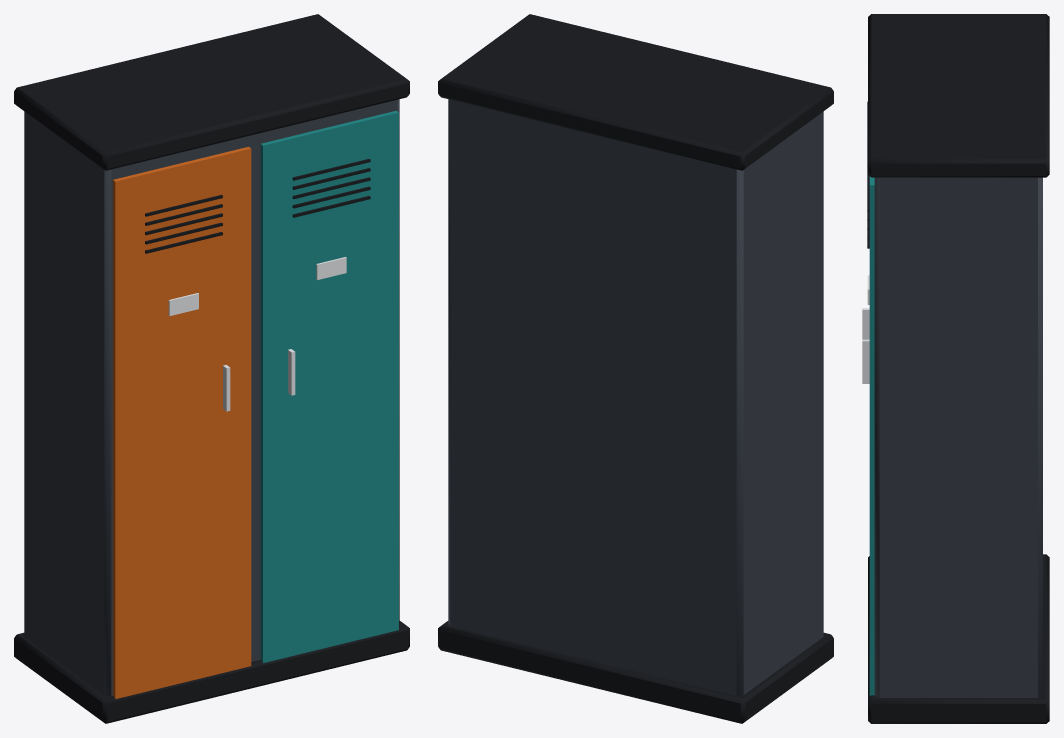
Rendered from locker_double_locker_bank.glb.
3 renders of one model, left to right at view 1: azimuth 30°, elevation 25°; view 2: azimuth 150°, elevation 25°; view 3: azimuth 270°, elevation 25°, orthographic.
Parts seen in each view (by area): view 1: locker_double_locker_bank; view 2: locker_double_locker_bank; view 3: locker_double_locker_bank.
Boxes of the visible parts, x1,y1,x2,y2 form: locker_double_locker_bank: (14,14,409,723); locker_double_locker_bank: (438,14,833,723); locker_double_locker_bank: (862,14,1049,723).
Size of the model in its own units: 1.04 by 1.85 by 0.557.
